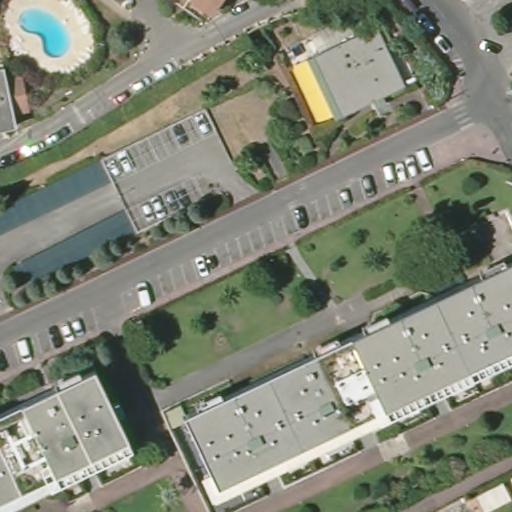pool: (18, 5, 75, 59)
